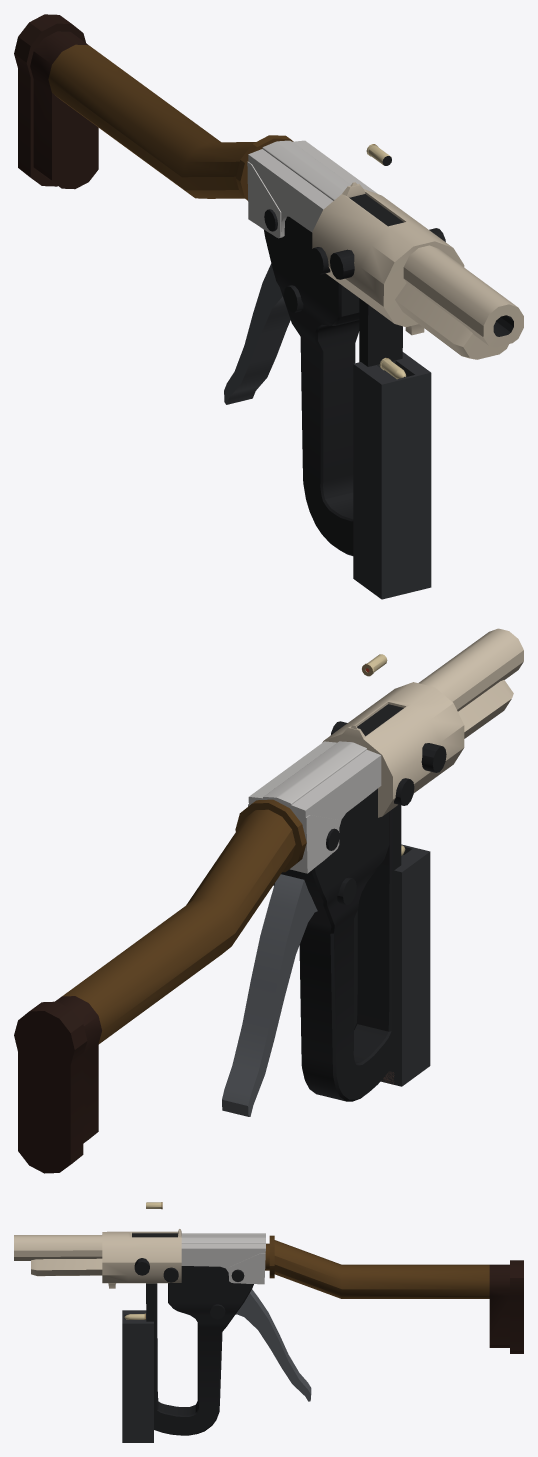
Rendered from STEPTOLET.fbx.
3 views of the same model, one above another, from view 1: azimuth 30°, elevation 25°; view 2: azimuth 150°, elevation 25°; view 3: azimuth 270°, elevation 25° (orthographic). The views are drawn at different scales.
Parts seen in each view (by area): view 1: Cylinder.001, Cube, Cylinder, Cube.003, Cube.002, Cube.001, Cylinder.004; view 2: Cylinder.001, Cube, Cylinder, Cube.001, Cube.003, Cube.002, Cylinder.004; view 3: Cylinder.001, Cube, Cylinder, Cube.003, Cube.002, Cube.001, Cylinder.004.
Boxes of the visible parts, x1,y1,x2,y2 form: Cylinder.001: (14,14,293,200); Cube: (264,216,402,555); Cylinder: (312,182,523,359); Cube.003: (353,352,431,599); Cube.002: (247,140,377,238); Cube.001: (224,263,290,404); Cylinder.004: (264,209,445,312); Cylinder.001: (14,799,306,1173); Cube: (273,788,401,1101); Cylinder: (322,628,523,817); Cube.001: (222,874,317,1116); Cube.003: (354,844,430,1086); Cube.002: (248,741,381,873); Cylinder.004: (326,721,446,904); Cylinder.001: (265,1235,523,1353); Cube: (146,1266,253,1435); Cylinder: (14,1229,181,1288); Cube.003: (122,1310,153,1442); Cube.002: (181,1233,265,1284); Cube.001: (235,1289,311,1401); Cylinder.004: (134,1258,244,1319).
Size of the model in its own units: 102 by 401 by 792.
1 material, 1 textured.
